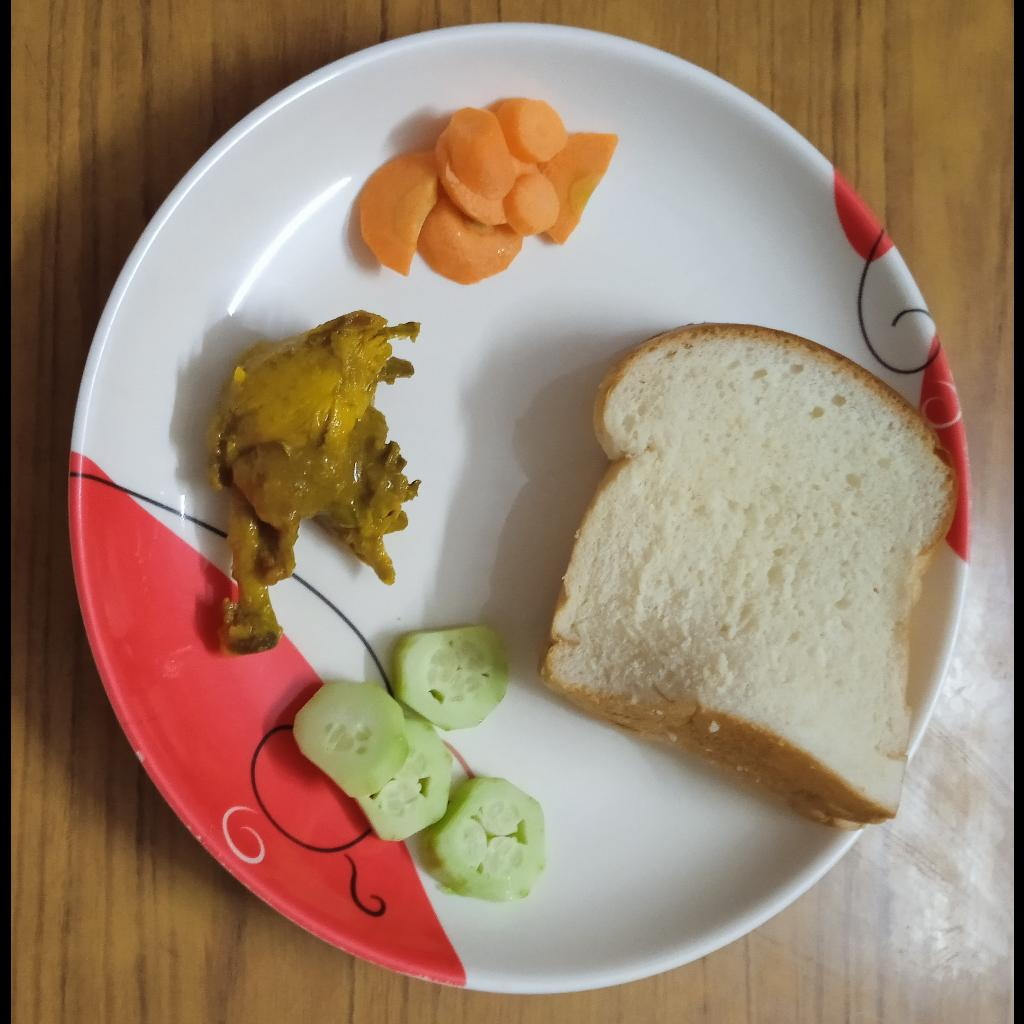bread: (540, 318, 958, 830)
carrot: (357, 96, 623, 290)
chicken: (204, 308, 423, 658)
cucumber: (291, 620, 548, 906)
